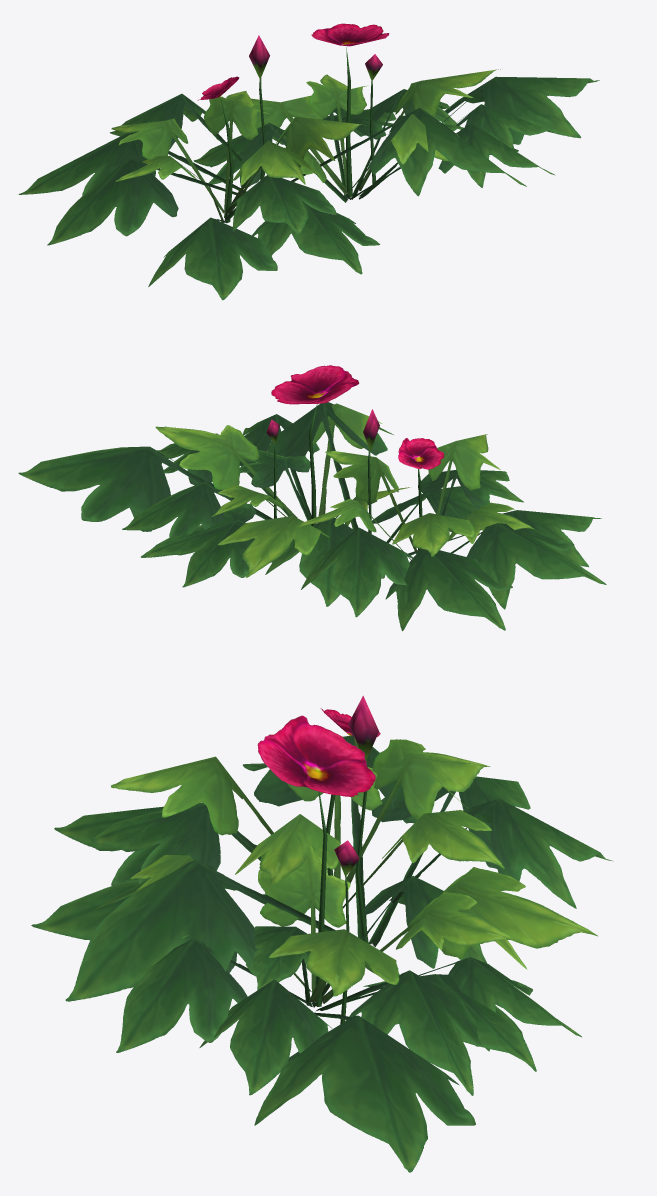
Rendered from Scene_cao_018.FBX.
The picture shows the model from 3 angles, top to bottom: view 1: azimuth 30°, elevation 25°; view 2: azimuth 150°, elevation 25°; view 3: azimuth 270°, elevation 25°; orthographic projection. The views are drawn at different scales.
Parts seen in each view (by area): view 1: Scene_cao_018; view 2: Scene_cao_018; view 3: Scene_cao_018.
Boxes of the visible parts, <box> form: Scene_cao_018: <box>18,23,599,300</box>; Scene_cao_018: <box>18,365,606,631</box>; Scene_cao_018: <box>31,695,613,1172</box>.
Bounding box in the file's own units: 329 × 108 × 199.
